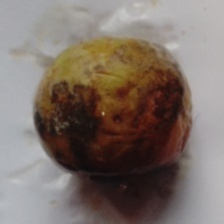guava: (8, 32, 186, 215)
